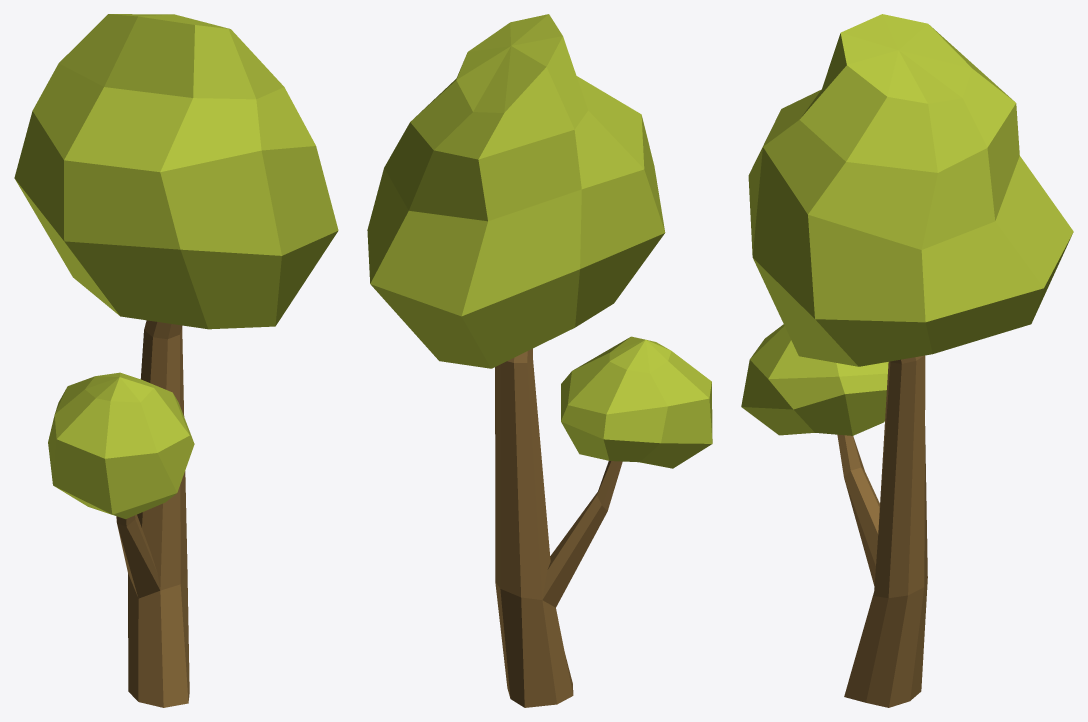
The model's file is Texture.fbx.
3 views of the same model, side by side, from view 1: azimuth 30°, elevation 25°; view 2: azimuth 150°, elevation 25°; view 3: azimuth 270°, elevation 25° (orthographic). The views are drawn at different scales.
Visible parts, largest first — view 1: Tree_oak_1; view 2: Tree_oak_1; view 3: Tree_oak_1.
Boxes of the visible parts, bbox=[...] form: Tree_oak_1: bbox=[14, 14, 338, 707]; Tree_oak_1: bbox=[367, 14, 712, 707]; Tree_oak_1: bbox=[741, 14, 1073, 707].
Size of the model in its own units: 0.2065 by 0.4501 by 0.2031.
